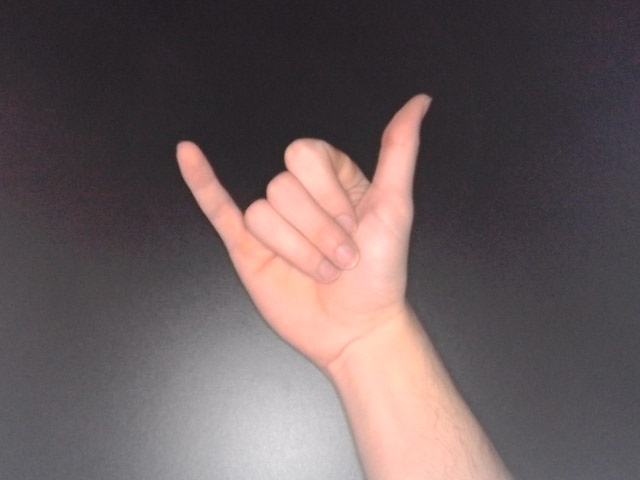y: (167, 89, 440, 382)
